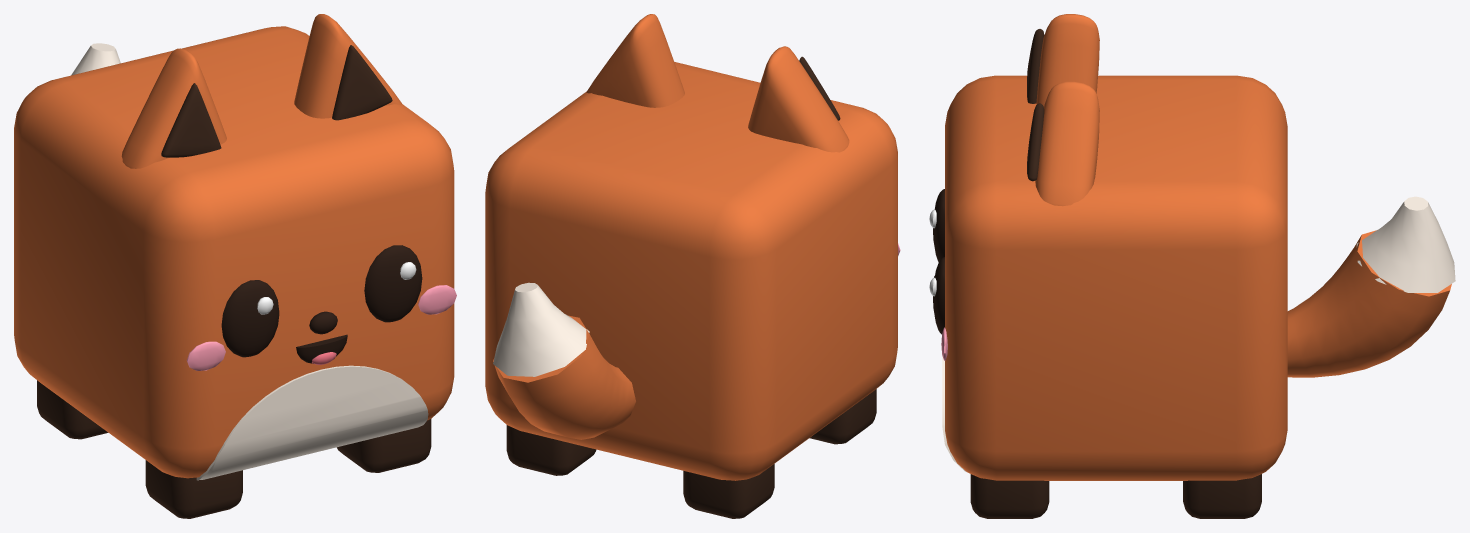
File: Fox.glb
The picture shows the model from 3 angles, left to right: view 1: azimuth 30°, elevation 25°; view 2: azimuth 150°, elevation 25°; view 3: azimuth 270°, elevation 25°; orthographic projection. The views are drawn at different scales.
Parts seen in each view (by area): view 1: Fox; view 2: Fox; view 3: Fox.
Part boxes in pixels (x1,y1,x2,y2): Fox: [14, 14, 456, 518]; Fox: [485, 14, 900, 518]; Fox: [929, 14, 1455, 518].
Size of the model in its own units: 2 by 2.67 by 3.07.
1 material, 1 textured.
